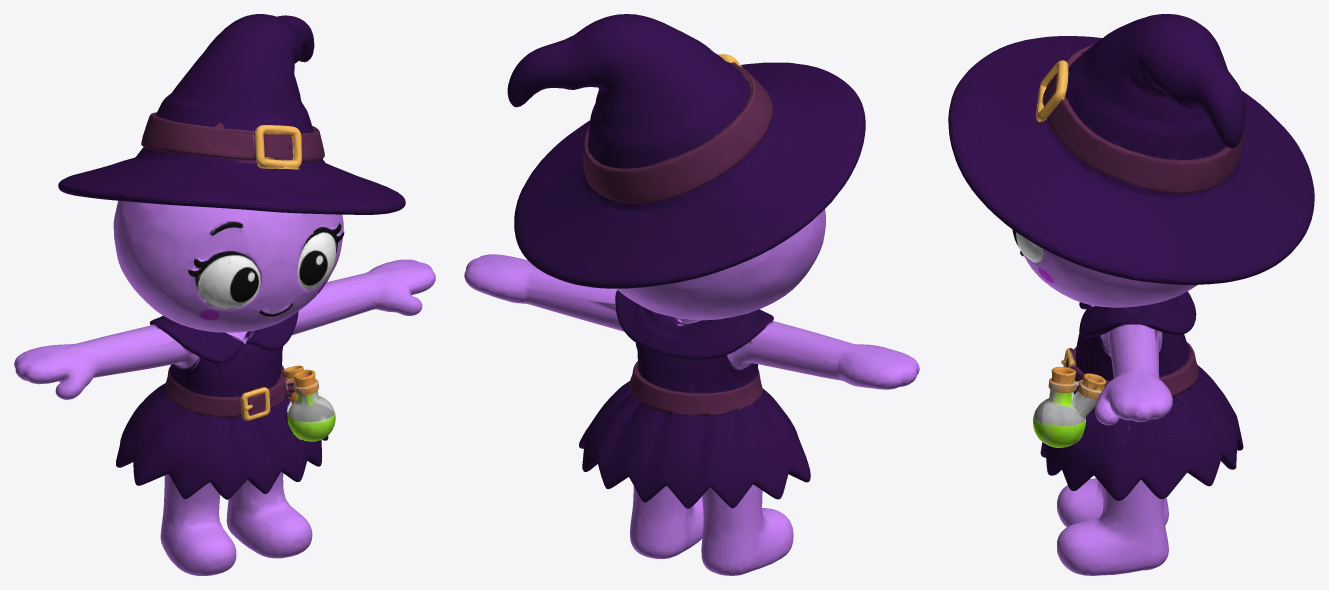
File: reference-tpose.fbx
3 renders of one model, left to right at view 1: azimuth 30°, elevation 25°; view 2: azimuth 150°, elevation 25°; view 3: azimuth 270°, elevation 25°, orthographic. The views are drawn at different scales.
Parts seen in each view (by area): view 1: Mesh_0; view 2: Mesh_0; view 3: Mesh_0.
Part boxes in pixels (x1,y1,x2,y2): Mesh_0: [14, 14, 435, 575]; Mesh_0: [464, 14, 919, 575]; Mesh_0: [948, 14, 1314, 575].
Bounding box in the file's own units: 165 × 190 × 114.
Materials: 1 (1 with a texture image).
